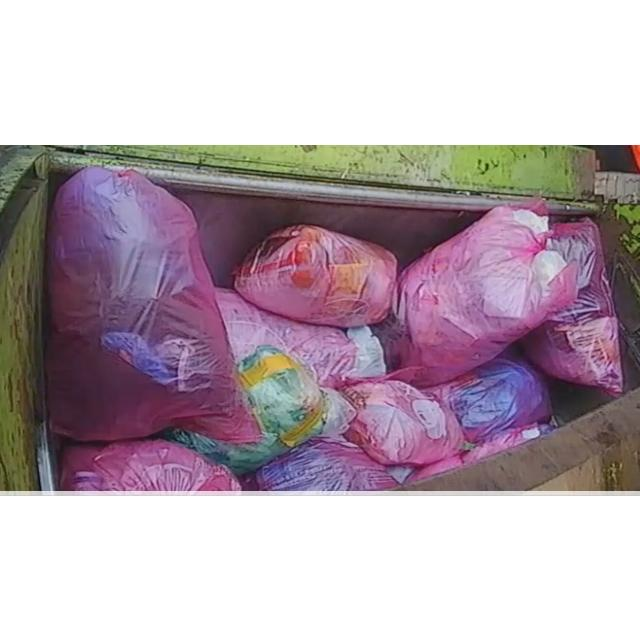other_trashbag: (46, 166, 261, 442), (376, 203, 579, 385), (165, 344, 355, 473), (522, 218, 622, 395), (215, 286, 386, 386), (234, 224, 398, 326), (422, 356, 551, 442), (344, 379, 464, 465)
